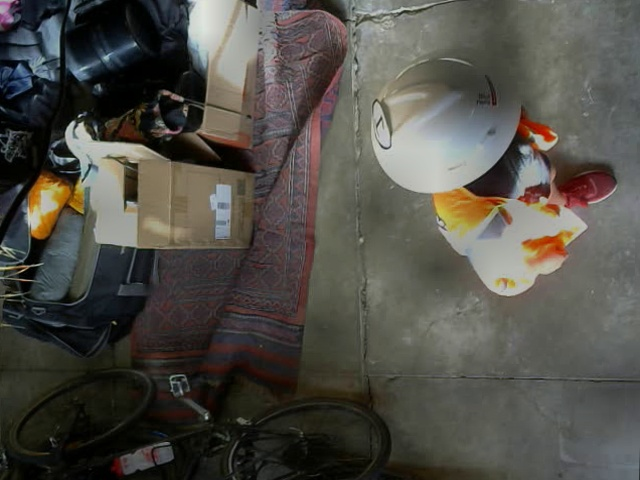one: (372, 100, 391, 151)
